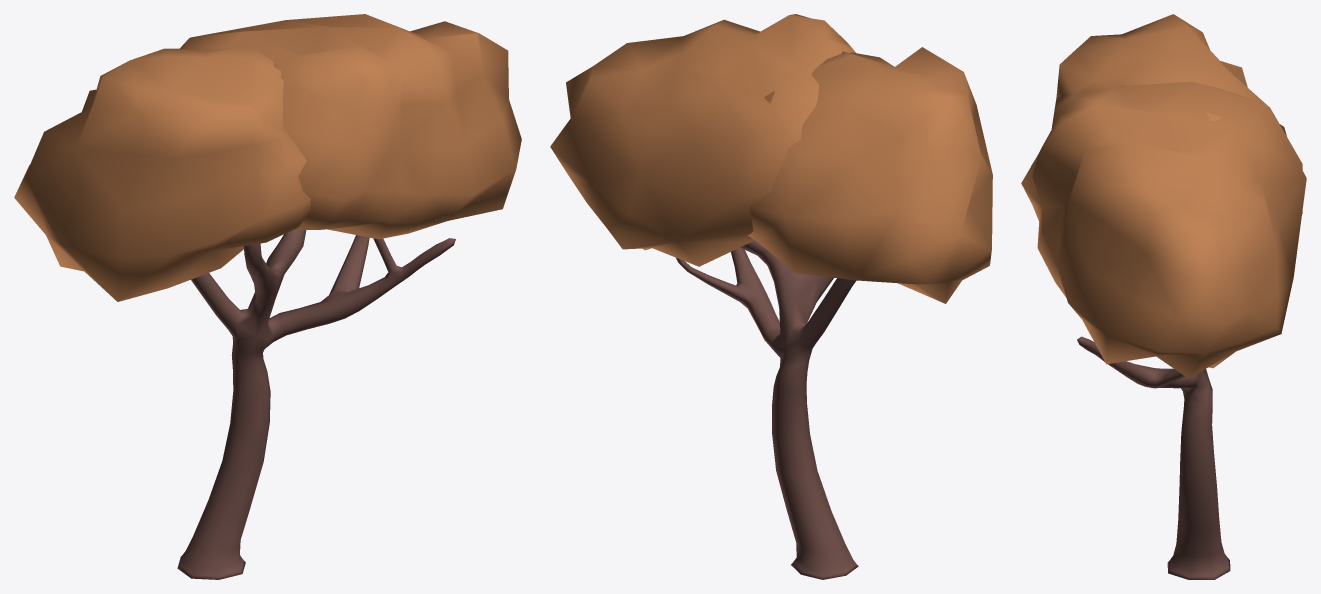
Rendered from CommonTree_Autumn_5.glb.
3 renders of one model, left to right at view 1: azimuth 30°, elevation 25°; view 2: azimuth 150°, elevation 25°; view 3: azimuth 270°, elevation 25°, orthographic. The views are drawn at different scales.
Parts seen in each view (by area): view 1: CommonTree_Autumn_5; view 2: CommonTree_Autumn_5; view 3: CommonTree_Autumn_5.
Boxes of the visible parts, left/top/right/bottom form: CommonTree_Autumn_5: left=14, top=14, right=521, bottom=579; CommonTree_Autumn_5: left=550, top=14, right=992, bottom=579; CommonTree_Autumn_5: left=1021, top=14, right=1306, bottom=579.
Bounding box in the file's own units: 2.25 × 2.53 × 1.29.
